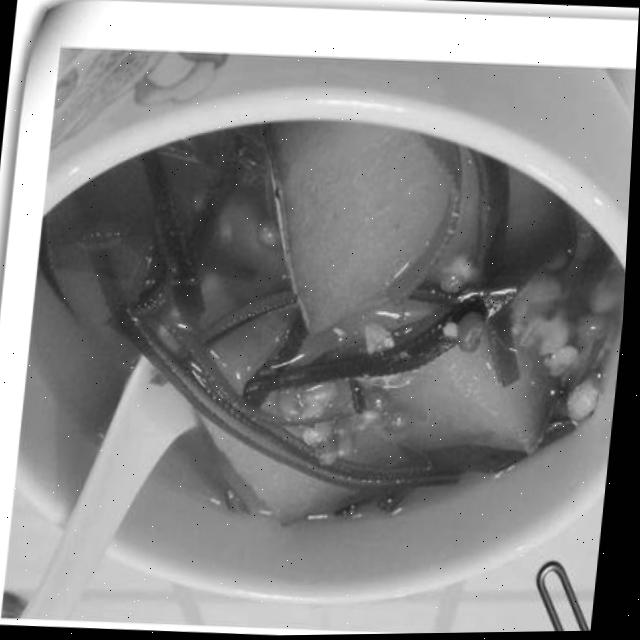汤锅炖物: (80, 95, 570, 555)
